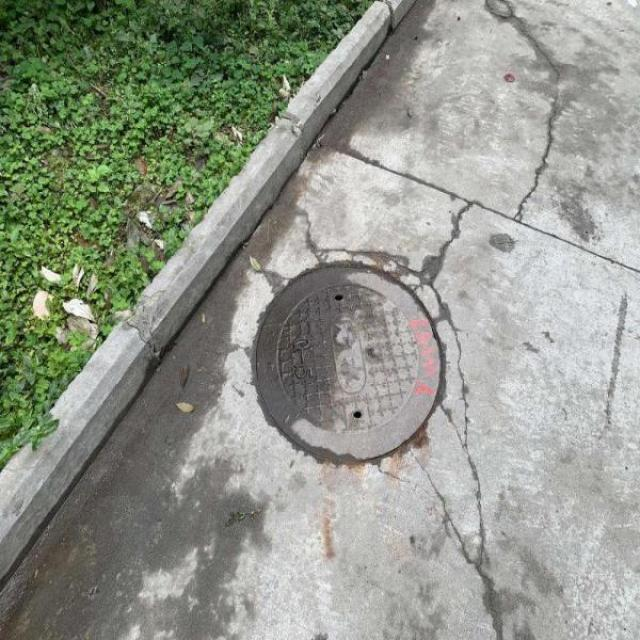Good: (250, 257, 450, 467)
